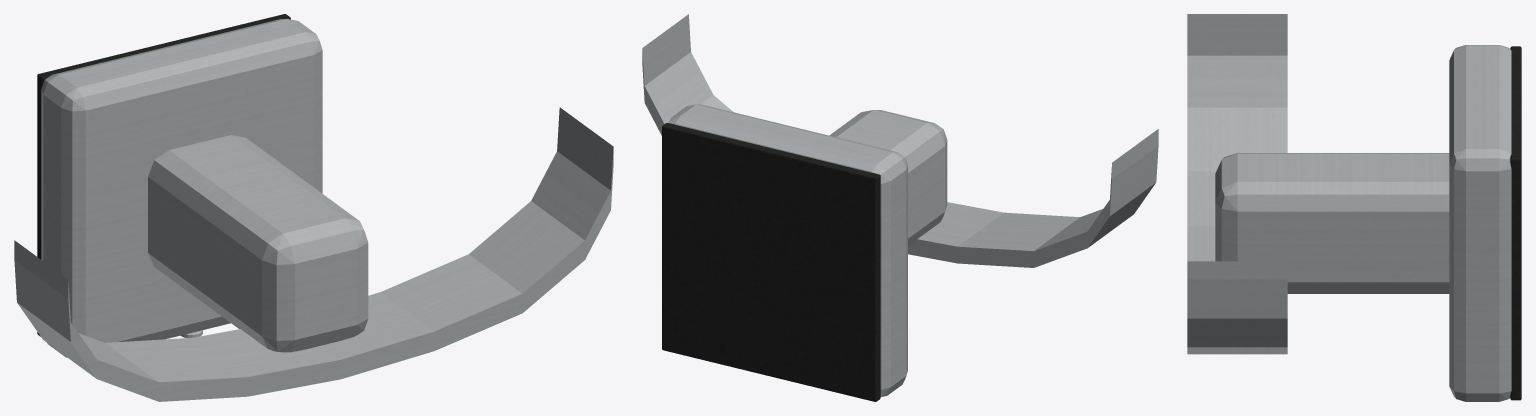
File: mb01_double_robe_hook_lod0.glb
3 views of the same model, side by side, from view 1: azimuth 30°, elevation 25°; view 2: azimuth 150°, elevation 25°; view 3: azimuth 270°, elevation 25° (orthographic). The views are drawn at different scales.
Parts seen in each view (by area): view 1: hook_square_flange, hook_contoured_double_cap, hook_support_arm, hook_wall_gasket; view 2: hook_wall_gasket, hook_contoured_double_cap, hook_square_flange, hook_support_arm; view 3: hook_support_arm, hook_contoured_double_cap, hook_square_flange, hook_wall_gasket.
Boxes of the visible parts, bbox=[...] form: hook_square_flange: bbox=[41, 19, 322, 357]; hook_contoured_double_cap: bbox=[14, 107, 613, 401]; hook_support_arm: bbox=[148, 135, 368, 352]; hook_wall_gasket: bbox=[37, 14, 290, 336]; hook_wall_gasket: bbox=[662, 123, 880, 401]; hook_contoured_double_cap: bbox=[642, 14, 1158, 267]; hook_square_flange: bbox=[668, 104, 907, 396]; hook_support_arm: bbox=[829, 110, 947, 246]; hook_support_arm: bbox=[1215, 153, 1449, 293]; hook_contoured_double_cap: bbox=[1187, 14, 1287, 354]; hook_square_flange: bbox=[1449, 45, 1511, 401]; hook_wall_gasket: bbox=[1510, 46, 1521, 400].
Bounding box in the file's own units: 0.105 × 0.0505 × 0.06.
Materials: 2 (2 with a texture image).
